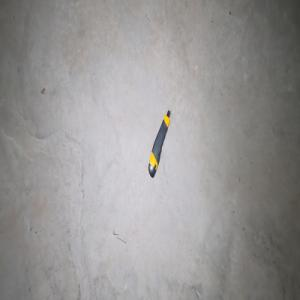Cutter: (147, 109, 171, 178)
